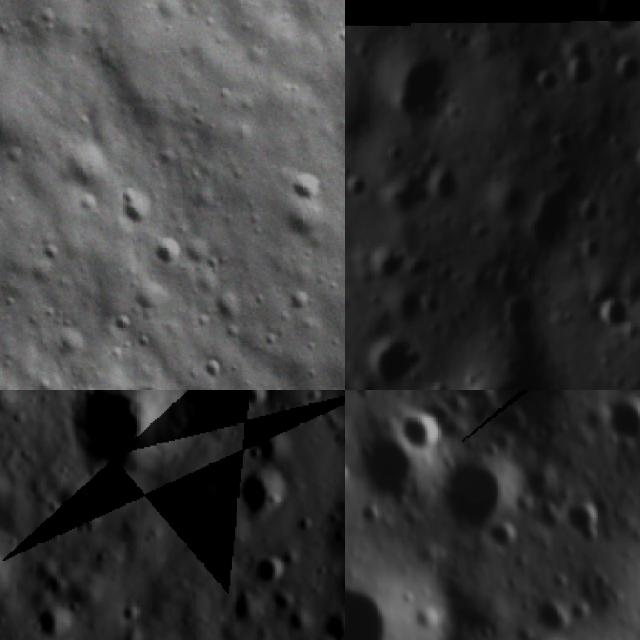crater: (51, 390, 216, 486), (345, 430, 421, 516), (438, 455, 515, 531), (345, 558, 414, 640), (388, 48, 450, 134), (228, 465, 300, 534), (284, 156, 339, 219), (139, 224, 195, 284), (269, 202, 324, 262), (518, 187, 575, 243), (358, 340, 423, 388), (109, 181, 161, 237), (559, 499, 610, 550), (242, 428, 292, 479), (595, 397, 640, 452), (480, 516, 529, 562), (319, 72, 345, 153), (23, 602, 78, 640), (393, 409, 442, 451), (246, 550, 292, 592), (0, 524, 20, 613), (594, 0, 640, 34), (564, 41, 600, 82), (422, 170, 462, 206), (115, 597, 150, 636), (498, 302, 540, 334), (368, 245, 404, 282), (597, 295, 629, 331), (313, 604, 345, 640), (534, 63, 562, 94), (497, 264, 528, 292), (543, 128, 575, 155), (234, 390, 270, 414), (501, 628, 567, 640), (616, 50, 639, 83), (578, 234, 604, 263), (345, 169, 370, 196), (580, 197, 602, 220), (345, 390, 382, 403), (627, 139, 640, 174), (609, 390, 640, 400)
